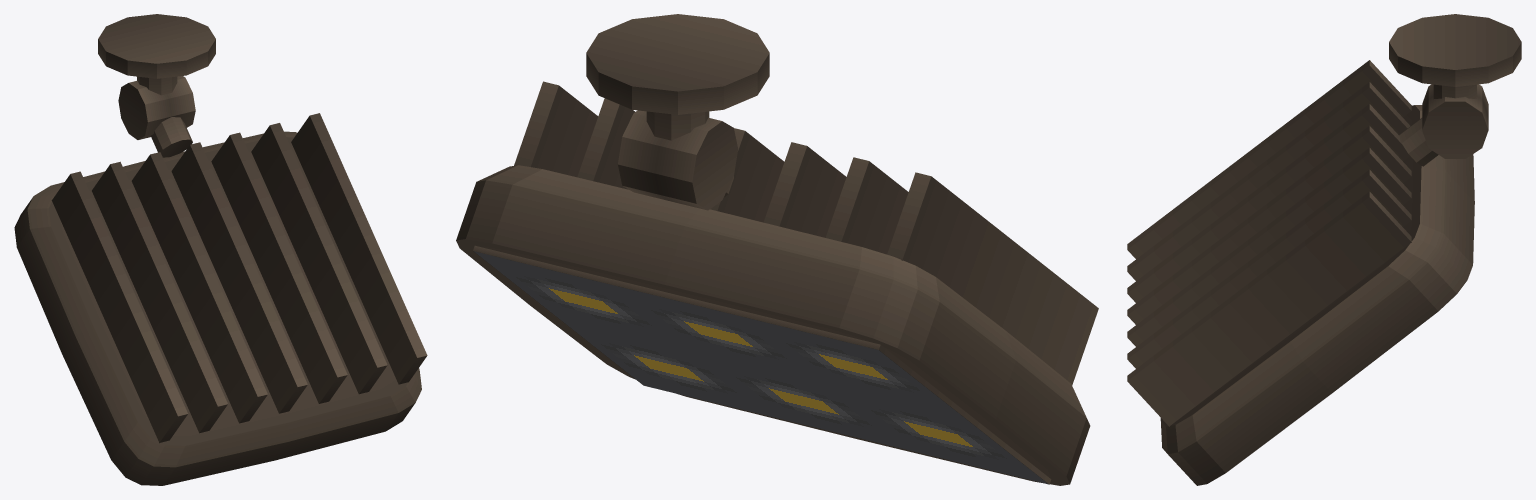
The model's file is floodlight_geefmkn_c.obj.
3 views of the same model, side by side, from view 1: azimuth 30°, elevation 25°; view 2: azimuth 150°, elevation 25°; view 3: azimuth 270°, elevation 25° (orthographic). The views are drawn at different scales.
Visible parts, largest first — view 1: fixture; view 2: fixture; view 3: fixture.
Part boxes in pixels (x1,y1,x2,y2): fixture: (14, 14, 427, 485); fixture: (456, 14, 1098, 485); fixture: (1127, 14, 1521, 485).
Bounding box in the file's own units: 0.5857 × 0.6274 × 0.5942.
